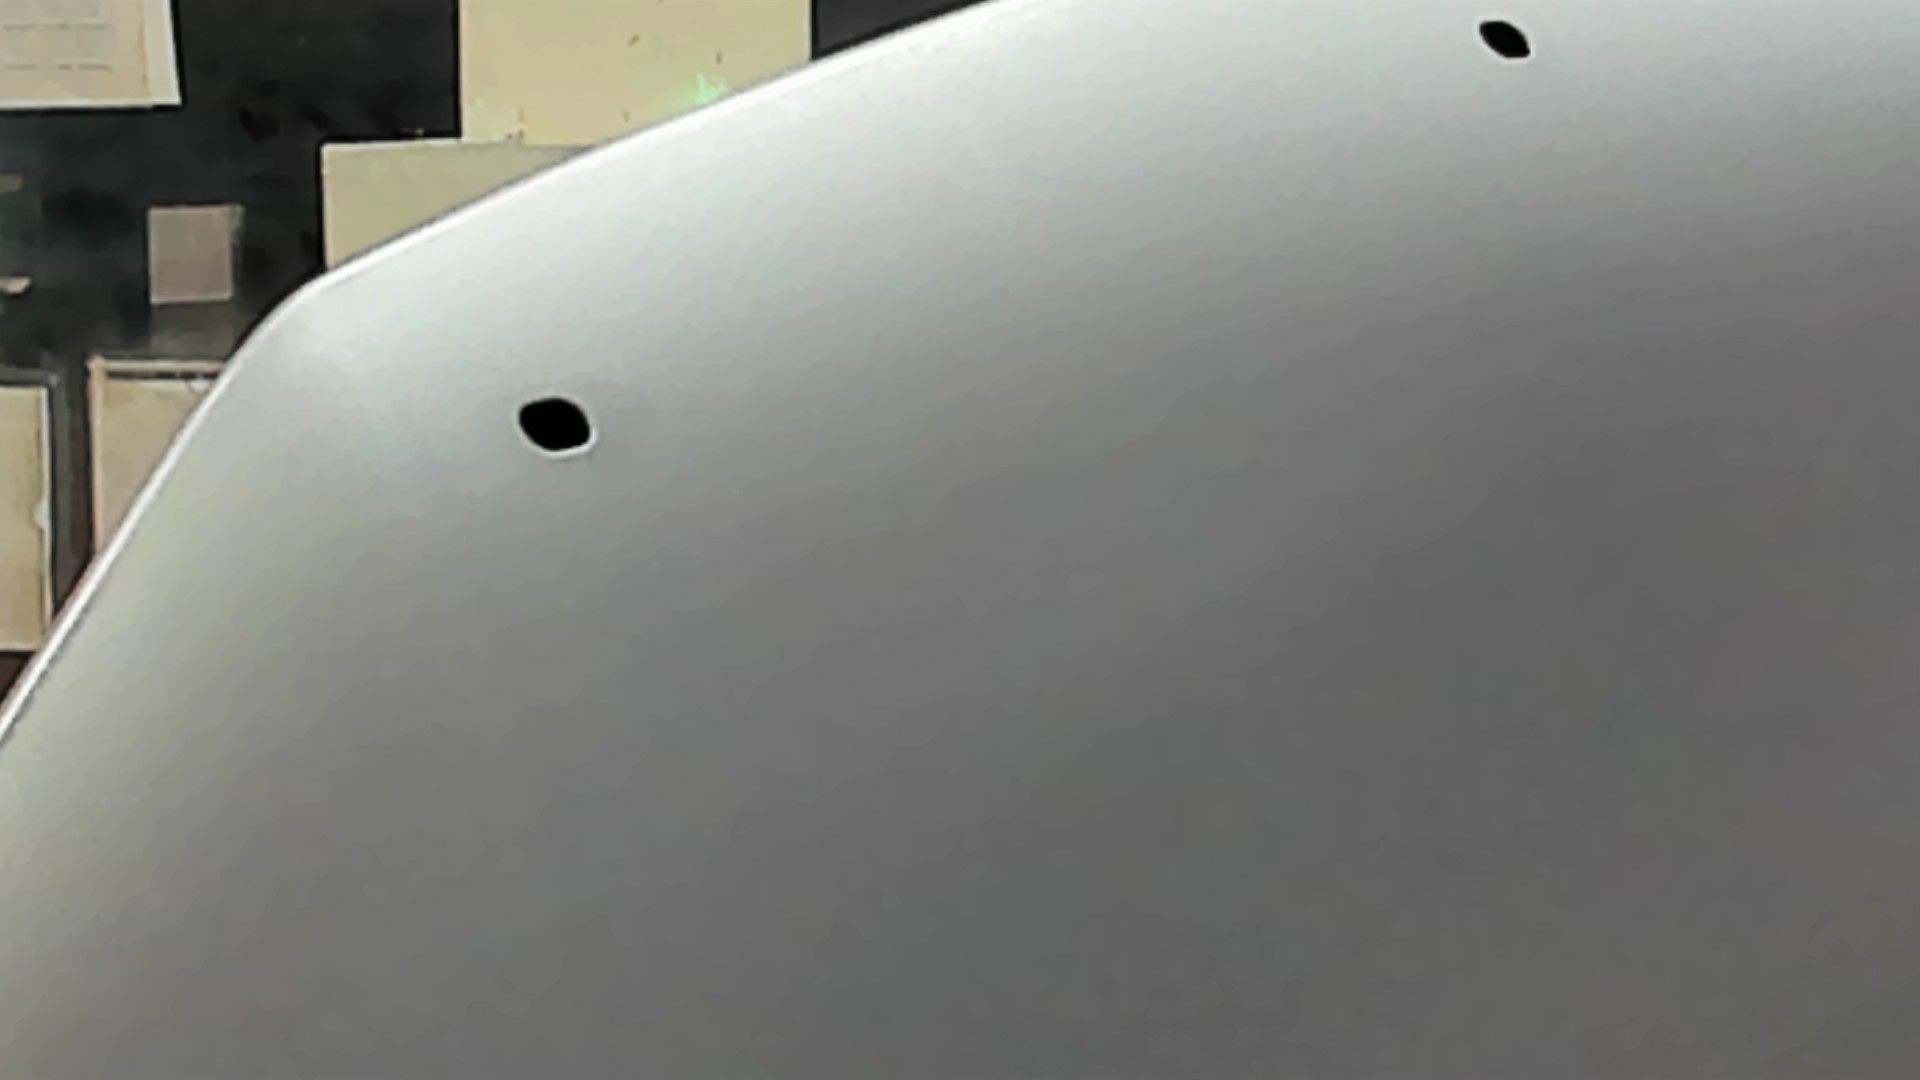chico: (502, 381, 622, 465), (1465, 9, 1545, 73)
